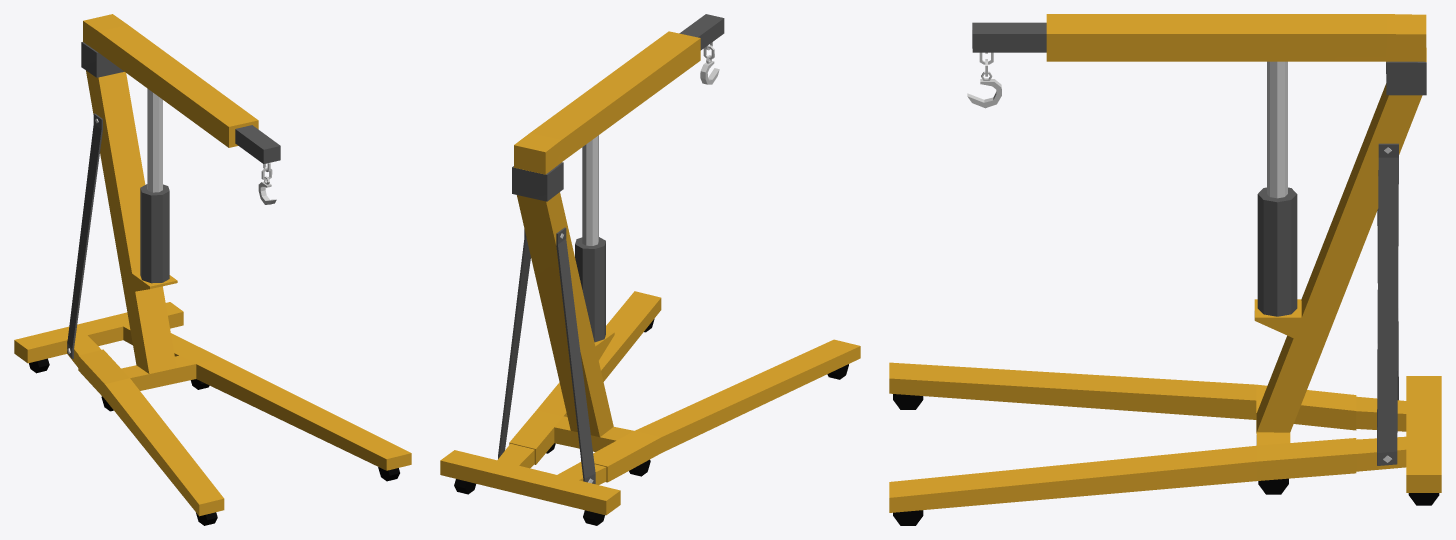
Rendered from Me_Hook.fbx.
3 views of the same model, side by side, from view 1: azimuth 30°, elevation 25°; view 2: azimuth 150°, elevation 25°; view 3: azimuth 270°, elevation 25° (orthographic). The views are drawn at different scales.
Parts seen in each view (by area): view 1: Me_Hook; view 2: Me_Hook; view 3: Me_Hook.
Boxes of the visible parts, left/top/right/bottom form: Me_Hook: left=14, top=14, right=411, bottom=525; Me_Hook: left=440, top=14, right=860, bottom=525; Me_Hook: left=889, top=14, right=1441, bottom=525.
Bounding box in the file's own units: 820 × 1417 × 1247.
